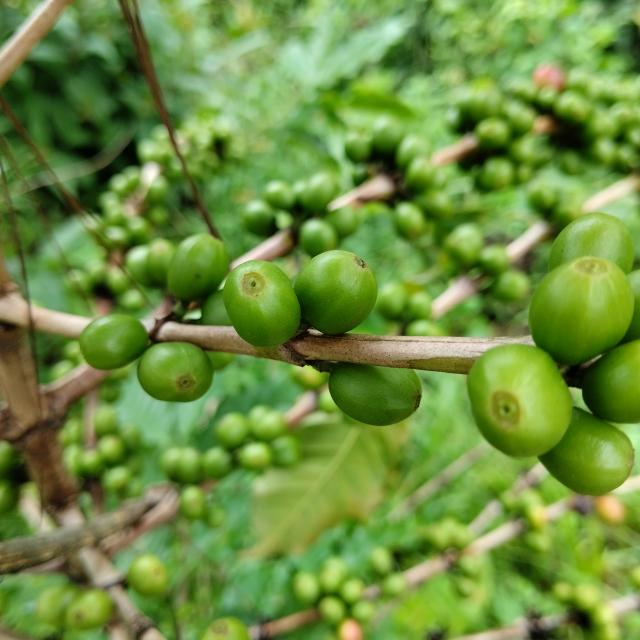green: (468, 344, 573, 458), (529, 256, 635, 366), (540, 408, 636, 496), (294, 250, 378, 335), (223, 260, 301, 348), (329, 362, 422, 426), (583, 340, 640, 424), (137, 342, 213, 402), (167, 234, 229, 301), (78, 314, 148, 370), (200, 290, 232, 326)
